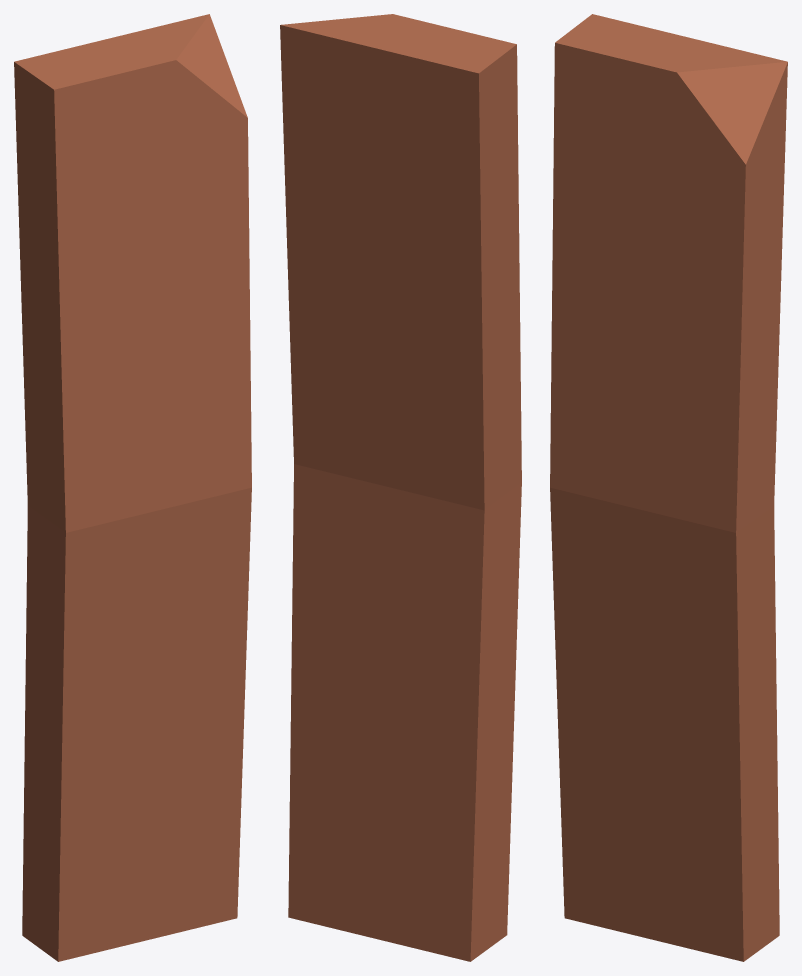
The model's file is Plank 06.fbx.
3 renders of one model, left to right at view 1: azimuth 30°, elevation 25°; view 2: azimuth 150°, elevation 25°; view 3: azimuth 330°, elevation 25°, orthographic.
Visible parts, largest first — view 1: Plank 06; view 2: Plank 06; view 3: Plank 06.
Part boxes in pixels (box(x1,y1,x2,y2)): Plank 06: box(14, 14, 251, 961); Plank 06: box(280, 14, 521, 961); Plank 06: box(550, 14, 787, 961).
Size of the model in its own units: 23.38 by 100 by 9.75.
